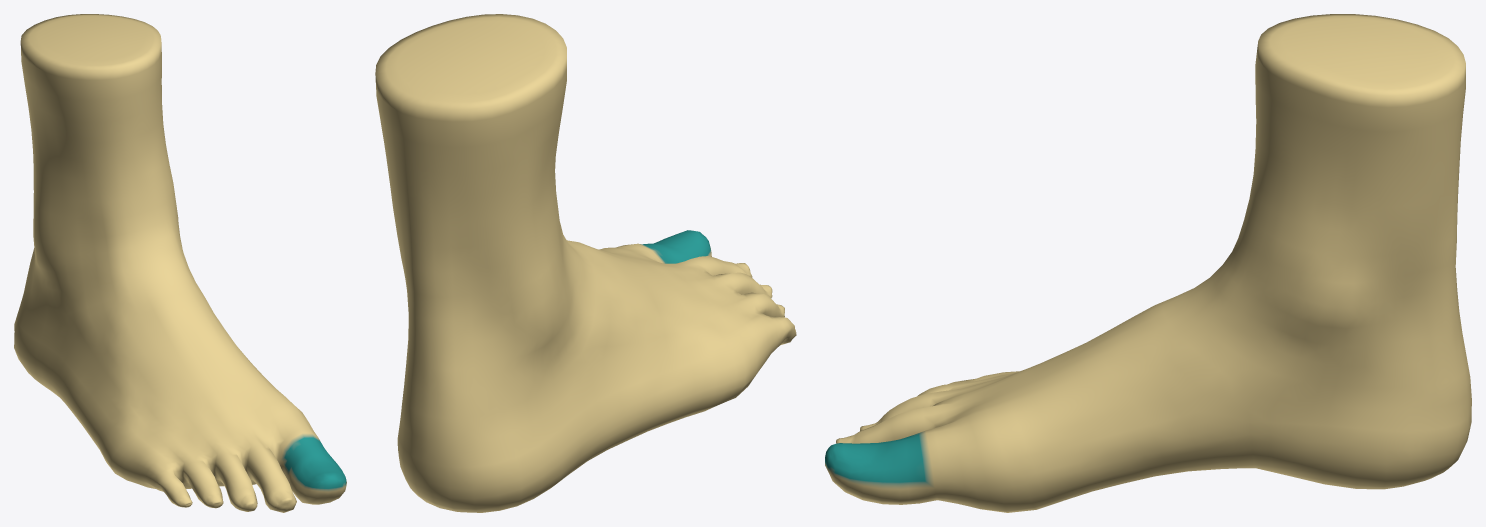
Rendered from Rightfoot.gltf.
The picture shows the model from 3 angles, left to right: view 1: azimuth 30°, elevation 25°; view 2: azimuth 150°, elevation 25°; view 3: azimuth 270°, elevation 25°; orthographic projection. The views are drawn at different scales.
Visible parts, largest first — view 1: Foot - Right; view 2: Foot - Right; view 3: Foot - Right.
Boxes of the visible parts, box(x1,y1,x2,y2) form: Foot - Right: box(14, 14, 346, 512); Foot - Right: box(375, 14, 796, 512); Foot - Right: box(825, 14, 1471, 512).
Size of the model in its own units: 0.0912 by 0.1781 by 0.2359.
